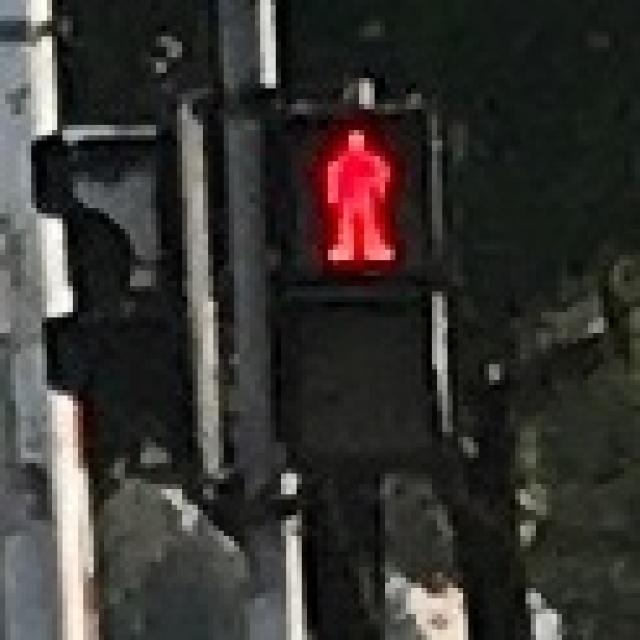red_light: (255, 98, 437, 270)
